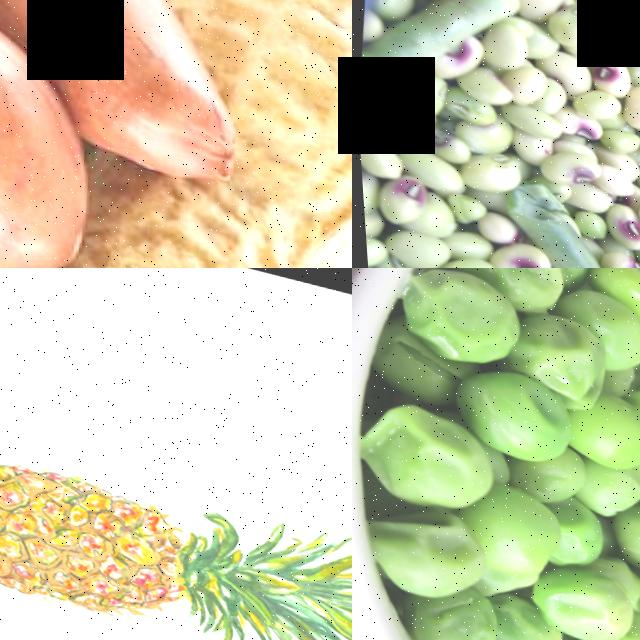peanuts: (46, 144, 335, 268), (180, 0, 352, 176), (0, 57, 108, 268)
peas: (352, 268, 640, 640)
pineapple: (0, 441, 282, 640)
